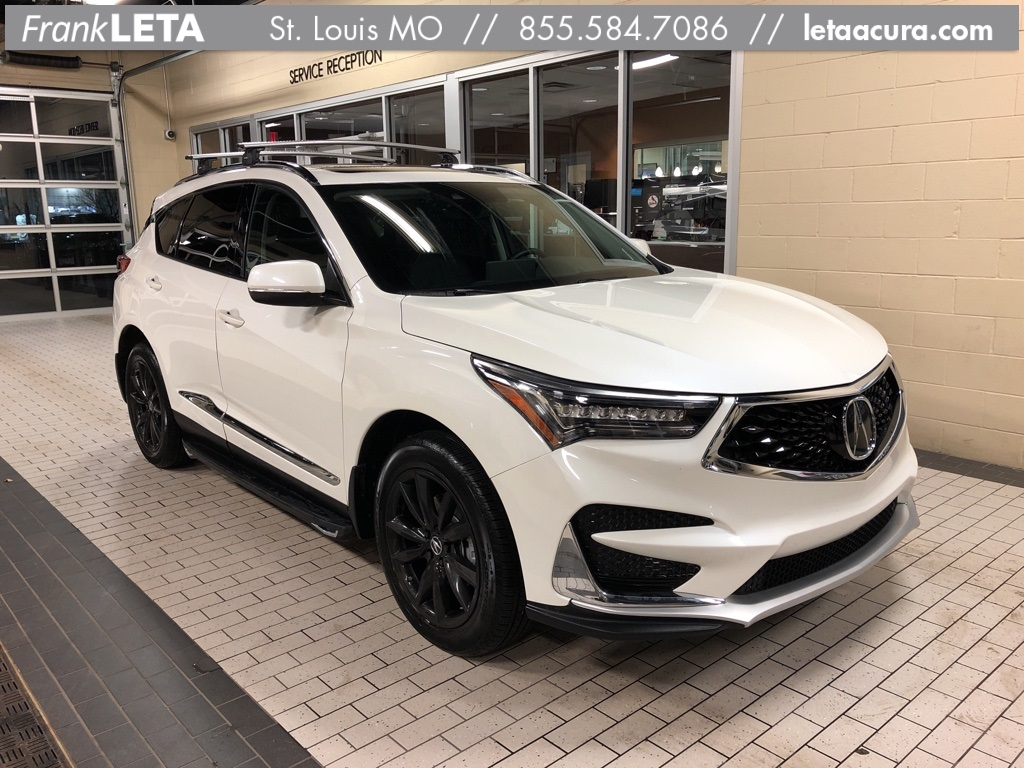Acura RDX 2019: (111, 141, 921, 659)
